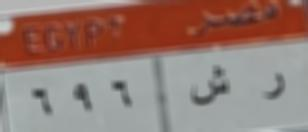6: (109, 75, 138, 113), (29, 84, 57, 118)
9: (70, 80, 94, 118)
raa: (260, 66, 289, 103)
sheen: (187, 65, 231, 109)
